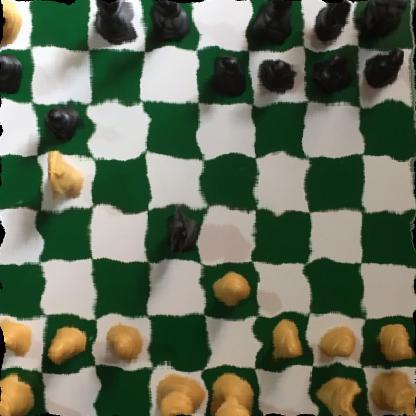black-bishop: (91, 0, 141, 44), (246, 0, 293, 44)
black-king: (144, 0, 190, 49)
black-knight: (160, 204, 200, 259), (312, 0, 356, 46)
black-pawn: (252, 54, 298, 99), (201, 54, 249, 97), (311, 49, 353, 96), (362, 48, 406, 88), (40, 105, 84, 144), (0, 52, 23, 98)
black-rook: (355, 0, 413, 44)
white-bishop: (0, 0, 27, 45)
white-king: (201, 373, 253, 416)
white-knight: (40, 149, 87, 206), (314, 373, 364, 416)
white-pawn: (257, 321, 305, 365), (101, 322, 148, 364), (45, 324, 92, 364), (314, 327, 359, 366), (211, 270, 253, 311), (373, 325, 416, 363), (0, 320, 37, 361)
white-queen: (154, 367, 202, 416)
white-rook: (365, 366, 416, 416), (0, 373, 38, 416)
